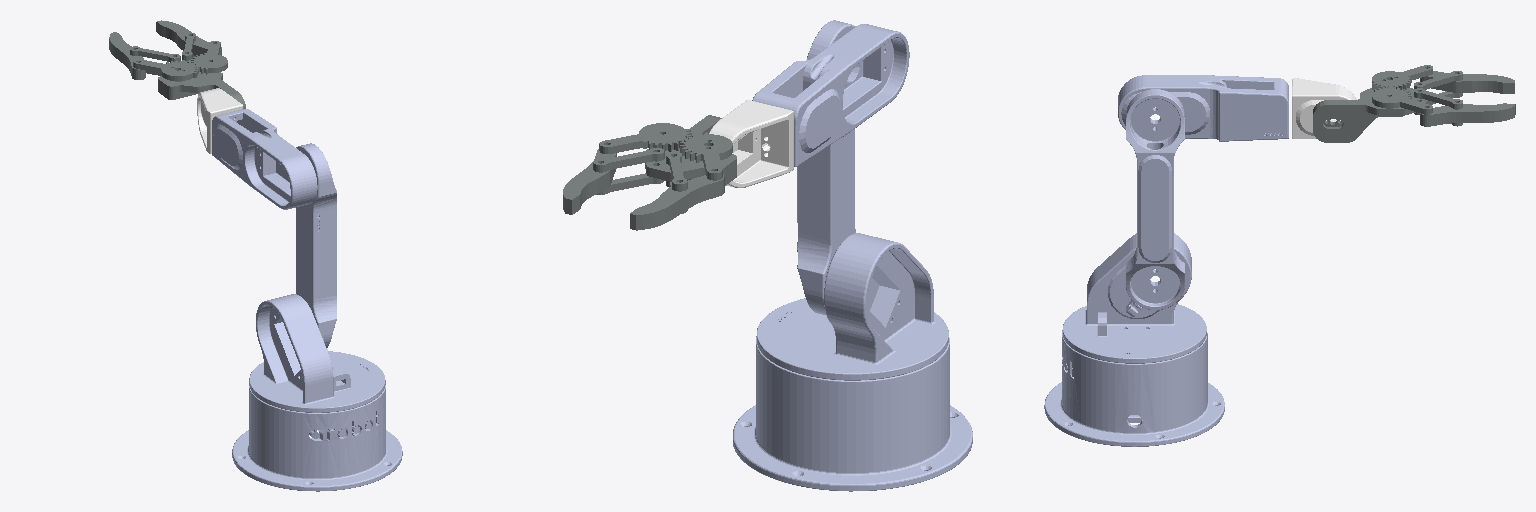
The robot description file, URDF, robot "Arobot_urdf":
<?xml version="1.0" encoding="utf-8"?>
<!-- This URDF was automatically created by SolidWorks to URDF Exporter! Originally created by [author] ([email redacted]) 
     Commit Version: 1.6.0-4-g7f85cfe  Build Version: 1.6.7995.38578
     For more information, please see http://wiki.ros.org/sw_urdf_exporter -->
<robot
  name="Arobot_urdf">
  <link
    name="base_link">
    <inertial>
      <origin
        xyz="-0.0199023809554258 -0.0173034470198268 -0.0157828643241678"
        rpy="0 0 0" />
      <mass
        value="0.0931216324961421" />
      <inertia
        ixx="0.000124567788543552"
        ixy="-4.16363683065978E-08"
        ixz="1.57671233689442E-06"
        iyy="0.000130557362004676"
        iyz="-5.17488311121036E-07"
        izz="0.000200546691587433" />
    </inertial>
    <visual>
      <origin
        xyz="0 0 0"
        rpy="0 0 0" />
      <geometry>
        <mesh
          filename="package://Arobot_urdf/meshes/base_link.STL" />
      </geometry>
      <material
        name="">
        <color
          rgba="0.792156862745098 0.819607843137255 0.933333333333333 1" />
      </material>
    </visual>
    <collision>
      <origin
        xyz="0 0 0"
        rpy="0 0 0" />
      <geometry>
        <mesh
          filename="package://Arobot_urdf/meshes/base_link.STL" />
      </geometry>
    </collision>
  </link>
  <link
    name="link2">
    <inertial>
      <origin
        xyz="-0.00759010509401916 0.0187700474297136 -0.00224361769178332"
        rpy="0 0 0" />
      <mass
        value="0.0722904552128266" />
      <inertia
        ixx="6.24391334188447E-05"
        ixy="6.73311035218301E-06"
        ixz="-1.54882255374558E-06"
        iyy="5.68904737632755E-05"
        iyz="6.39871996504846E-06"
        izz="4.95155659981253E-05" />
    </inertial>
    <visual>
      <origin
        xyz="0 0 0"
        rpy="0 0 0" />
      <geometry>
        <mesh
          filename="package://Arobot_urdf/meshes/link2.STL" />
      </geometry>
      <material
        name="">
        <color
          rgba="0.792156862745098 0.819607843137255 0.933333333333333 1" />
      </material>
    </visual>
    <collision>
      <origin
        xyz="0 0 0"
        rpy="0 0 0" />
      <geometry>
        <mesh
          filename="package://Arobot_urdf/meshes/link2.STL" />
      </geometry>
    </collision>
  </link>
  <joint
    name="q1"
    type="continuous">
    <origin
      xyz="-0.019548 -0.017657 0.017836"
      rpy="1.5708 0 0" />
    <parent
      link="base_link" />
    <child
      link="link2" />
    <axis
      xyz="0 1 0" />
  </joint>
  <link
    name="link3">
    <inertial>
      <origin
        xyz="-0.000125481736924962 0.0592846627417191 0.00553500191463586"
        rpy="0 0 0" />
      <mass
        value="0.0565100282891084" />
      <inertia
        ixx="9.41765026874136E-05"
        ixy="-8.20721870459865E-09"
        ixz="1.28018314590746E-09"
        iyy="7.27757393240956E-06"
        iyz="-4.69467678466537E-10"
        izz="9.69997633192886E-05" />
    </inertial>
    <visual>
      <origin
        xyz="0 0 0"
        rpy="0 0 0" />
      <geometry>
        <mesh
          filename="package://Arobot_urdf/meshes/link3.STL" />
      </geometry>
      <material
        name="">
        <color
          rgba="0.792156862745098 0.819607843137255 0.933333333333333 1" />
      </material>
    </visual>
    <collision>
      <origin
        xyz="0 0 0"
        rpy="0 0 0" />
      <geometry>
        <mesh
          filename="package://Arobot_urdf/meshes/link3.STL" />
      </geometry>
    </collision>
  </link>
  <joint
    name="q2"
    type="continuous">
    <origin
      xyz="0 0.040395 -0.013891"
      rpy="1.5708 1.5708 1.5708" />
    <parent
      link="link2" />
    <child
      link="link3" />
    <axis
      xyz="0 0 1" />
  </joint>
  <link
    name="link4">
    <inertial>
      <origin
        xyz="-3.6277018358899E-05 0.0380964871549582 0.0137277229044298"
        rpy="0 0 0" />
      <mass
        value="0.0569391358158971" />
      <inertia
        ixx="6.36145624374083E-05"
        ixy="1.05125829931984E-07"
        ixz="2.80380500493347E-09"
        iyy="1.10341366256809E-05"
        iyz="-9.26039997868699E-07"
        izz="6.71124501437227E-05" />
    </inertial>
    <visual>
      <origin
        xyz="0 0 0"
        rpy="0 0 0" />
      <geometry>
        <mesh
          filename="package://Arobot_urdf/meshes/link4.STL" />
      </geometry>
      <material
        name="">
        <color
          rgba="0.792156862745098 0.819607843137255 0.933333333333333 1" />
      </material>
    </visual>
    <collision>
      <origin
        xyz="0 0 0"
        rpy="0 0 0" />
      <geometry>
        <mesh
          filename="package://Arobot_urdf/meshes/link4.STL" />
      </geometry>
    </collision>
  </link>
  <joint
    name="q3"
    type="continuous">
    <origin
      xyz="0 0.12 0"
      rpy="3.1416 0 1.5708" />
    <parent
      link="link3" />
    <child
      link="link4" />
    <axis
      xyz="0 0 1" />
  </joint>
  <link
    name="link5">
    <inertial>
      <origin
        xyz="0.00505977747575377 0.0460989187782145 -0.00578515845698138"
        rpy="0 0 0" />
      <mass
        value="0.0181544008867874" />
      <inertia
        ixx="4.26004943647823E-06"
        ixy="1.45652003326134E-08"
        ixz="-3.10514612533292E-09"
        iyy="2.89016878074379E-06"
        iyz="6.02916017576858E-07"
        izz="5.35076227036813E-06" />
    </inertial>
    <visual>
      <origin
        xyz="0 0 0"
        rpy="0 0 0" />
      <geometry>
        <mesh
          filename="package://Arobot_urdf/meshes/link5.STL" />
      </geometry>
      <material
        name="">
        <color
          rgba="1 1 1 1" />
      </material>
    </visual>
    <collision>
      <origin
        xyz="0 0 0"
        rpy="0 0 0" />
      <geometry>
        <mesh
          filename="package://Arobot_urdf/meshes/link5.STL" />
      </geometry>
    </collision>
  </link>
  <joint
    name="q4"
    type="continuous">
    <origin
      xyz="-0.0051 0.063767 0.013449"
      rpy="0 0 0" />
    <parent
      link="link4" />
    <child
      link="link5" />
    <axis
      xyz="0 1 0" />
  </joint>
  <link
    name="endEffector">
    <inertial>
      <origin
        xyz="0.0108354269744141 0.00851935483238395 -0.0520705736467652"
        rpy="0 0 0" />
      <mass
        value="0.0349188614782314" />
      <inertia
        ixx="1.28546999424825E-05"
        ixy="-8.63249361863202E-07"
        ixz="1.1128235896358E-06"
        iyy="9.08221478082389E-06"
        iyz="3.86983955907995E-06"
        izz="5.61702189618018E-06" />
    </inertial>
    <visual>
      <origin
        xyz="0 0 0"
        rpy="0 0 0" />
      <geometry>
        <mesh
          filename="package://Arobot_urdf/meshes/endEffector.STL" />
      </geometry>
      <material
        name="">
        <color
          rgba="0.529411764705882 0.549019607843137 0.549019607843137 1" />
      </material>
    </visual>
    <collision>
      <origin
        xyz="0 0 0"
        rpy="0 0 0" />
      <geometry>
        <mesh
          filename="package://Arobot_urdf/meshes/endEffector.STL" />
      </geometry>
    </collision>
  </link>
  <joint
    name="q5"
    type="continuous">
    <origin
      xyz="0.005 0.055833 0"
      rpy="1.1624 0 0" />
    <parent
      link="link5" />
    <child
      link="endEffector" />
    <axis
      xyz="0 0.91776 0.39713" />
  </joint>
</robot>

--- What the picture shows (computed from the rendered views, not written in the file) ---
3 views of the same robot in one strip: view 1: azimuth 30°, elevation 25°; view 2: azimuth 150°, elevation 25°; view 3: azimuth 270°, elevation 25° (orthographic).
Robot: Arobot_urdf — 6 links, 5 joints (5 continuous); root link base_link; default pose: all joints at 0.
Links seen in each view (by area): view 1: base_link, link2, link4, link3, endEffector, link5; view 2: base_link, link2, link4, endEffector, link3, link5; view 3: base_link, link3, link2, endEffector, link4, link5.
Link boxes in pixels (x1,y1,x2,y2): base_link: (232,385,402,491); link2: (249,294,385,412); link4: (212,109,317,209); link3: (296,143,336,358); endEffector: (109,20,245,108); link5: (197,88,242,153); base_link: (733,336,972,491); link2: (757,233,948,380); link4: (752,24,909,166); endEffector: (563,115,736,230); link3: (797,20,855,315); link5: (709,100,793,187); base_link: (1044,330,1224,446); link3: (1126,89,1184,316); link2: (1063,233,1206,363); endEffector: (1313,65,1515,142); link4: (1118,75,1288,141); link5: (1292,78,1356,138).
Size in the robot's own frame: 0.1213 by 0.3165 by 0.2378 metres.
Meshes: 6 distinct files referenced, 6 mesh visuals loaded (6 binary STL).